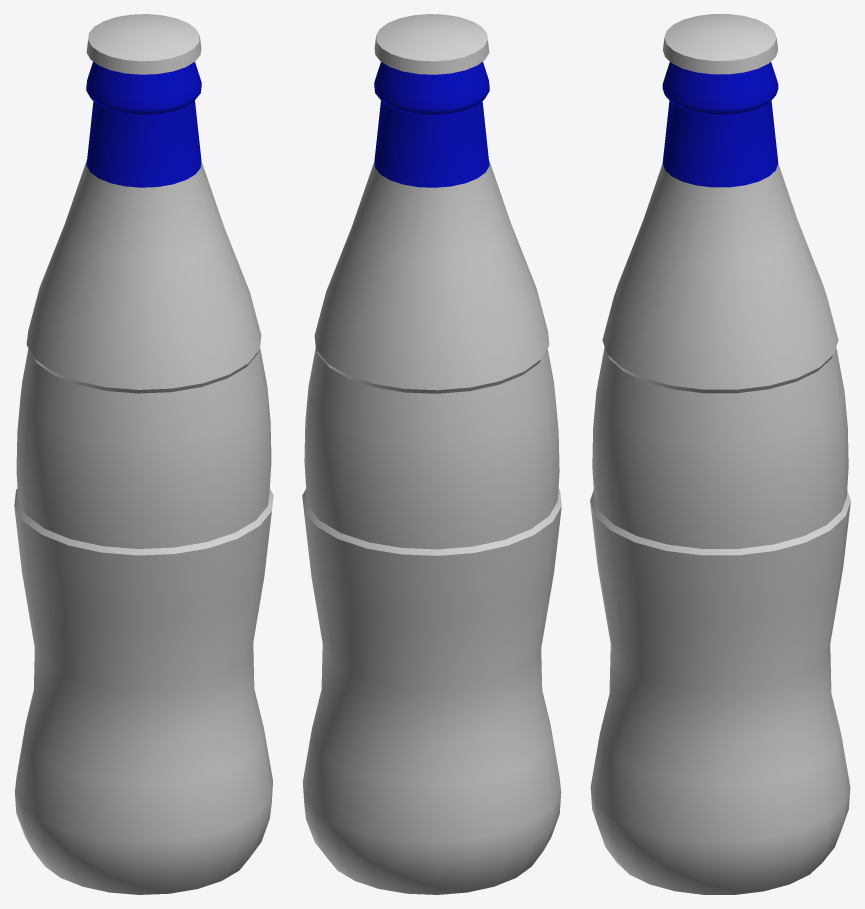
File: Lemonade.fbx
The picture shows the model from 3 angles, left to right: view 1: azimuth 30°, elevation 25°; view 2: azimuth 150°, elevation 25°; view 3: azimuth 270°, elevation 25°; orthographic projection.
Visible parts, largest first — view 1: Lemonade; view 2: Lemonade; view 3: Lemonade.
Part boxes in pixels (x1=…): Lemonade: x1=14, y1=14, x2=273, y2=894; Lemonade: x1=302, y1=14, x2=561, y2=894; Lemonade: x1=590, y1=14, x2=850, y2=894.
Bounding box in the file's own units: 0.0927 × 0.3249 × 0.0936.
